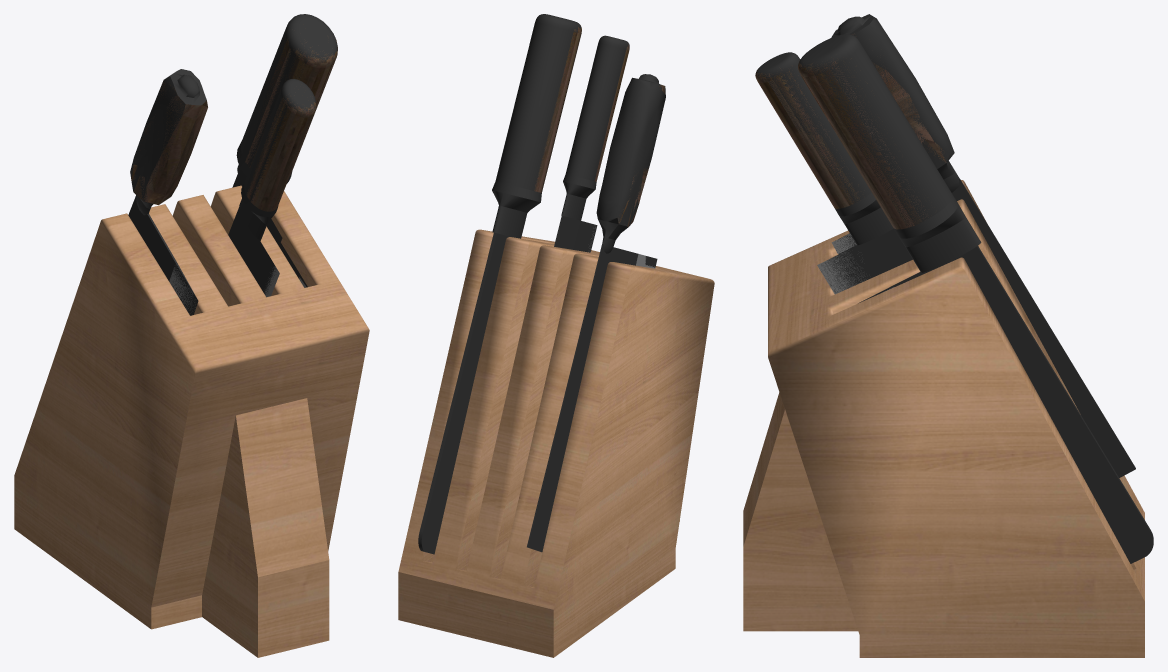
File: knives.glb
3 renders of one model, left to right at view 1: azimuth 30°, elevation 25°; view 2: azimuth 150°, elevation 25°; view 3: azimuth 270°, elevation 25°, orthographic. The views are drawn at different scales.
Parts seen in each view (by area): view 1: Material2.003, Material2, Material2.005, Material2.006; view 2: Material2.003, Material2, Material2.005; view 3: Material2.003, Material2, Material2.005, Material2.006.
Boxes of the visible parts, box(x1,y1,x2,y2) form: Material2.003: box(14, 185, 369, 657); Material2: box(128, 14, 337, 315); Material2.005: box(131, 36, 337, 211); Material2.006: box(169, 264, 306, 315); Material2.003: box(398, 229, 714, 657); Material2: box(418, 14, 665, 554); Material2.005: box(534, 25, 665, 226); Material2.003: box(743, 180, 1144, 657); Material2: box(756, 14, 1153, 563); Material2.005: box(755, 33, 946, 229); Material2.006: box(817, 234, 893, 294).
Size of the model in its own units: 0.5608 by 1.79 by 1.1.
4 materials, 4 textured.
